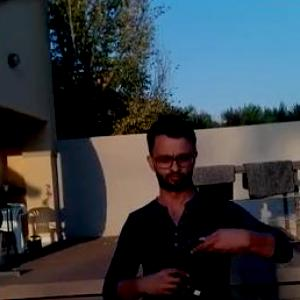follow: (96, 109, 299, 299)
